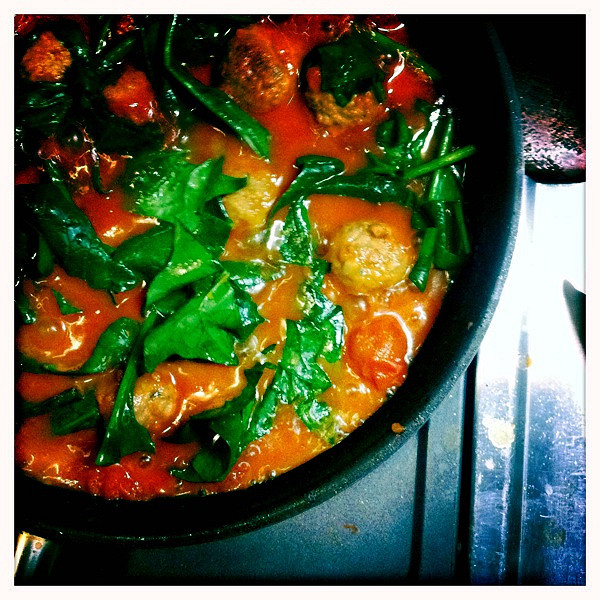meatballs: (323, 215, 415, 299), (220, 25, 300, 112)
